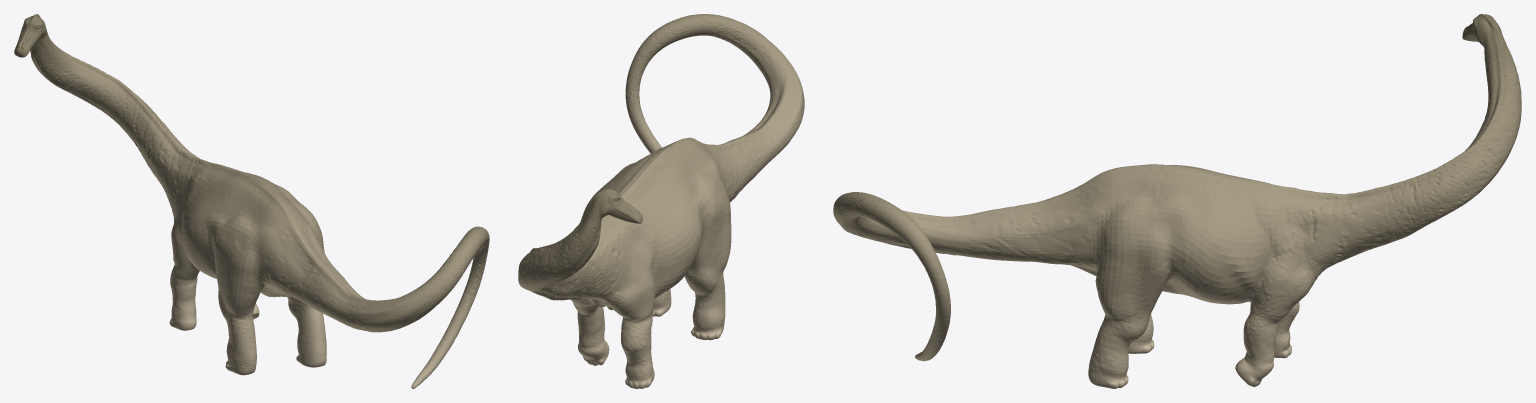
Rendered from barosaurus.glb.
3 views of the same model, side by side, from view 1: azimuth 30°, elevation 25°; view 2: azimuth 150°, elevation 25°; view 3: azimuth 270°, elevation 25° (orthographic). The views are drawn at different scales.
Visible parts, largest first — view 1: barosaurus.obj; view 2: barosaurus.obj; view 3: barosaurus.obj.
Part boxes in pixels (x1=…): barosaurus.obj: x1=14, y1=14, x2=489, y2=388; barosaurus.obj: x1=518, y1=14, x2=804, y2=388; barosaurus.obj: x1=833, y1=14, x2=1521, y2=388.
Size of the model in its own units: 4.71 by 4.89 by 9.96.
